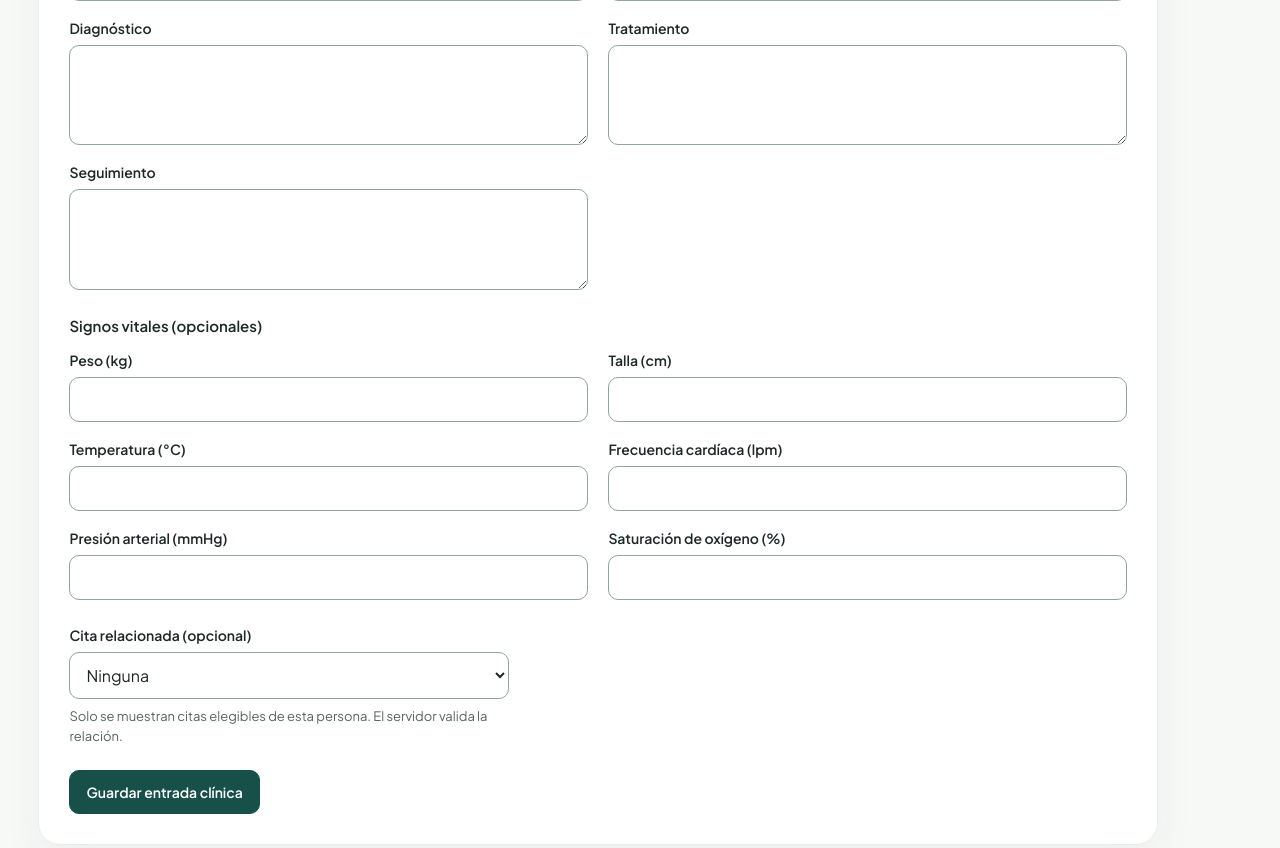
Test case: clinical field bounds match backend and vitals alone do not create an incomplete note
(page scrolled)
Type "70" into the field labelled "Peso (kg)" at (329, 400), box [69,377,588,422]
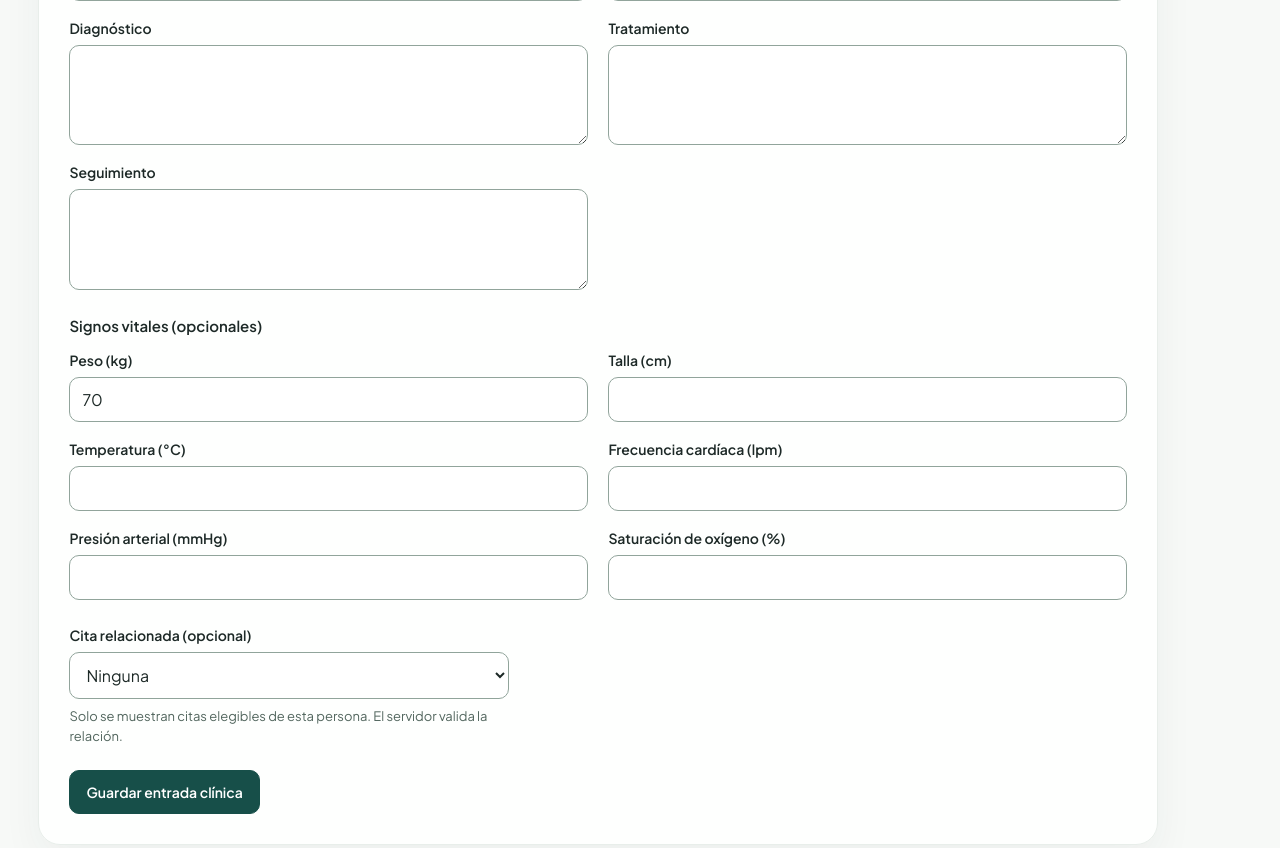
Click the button "Guardar entrada clínica" at (165, 792), box [69,770,260,814]
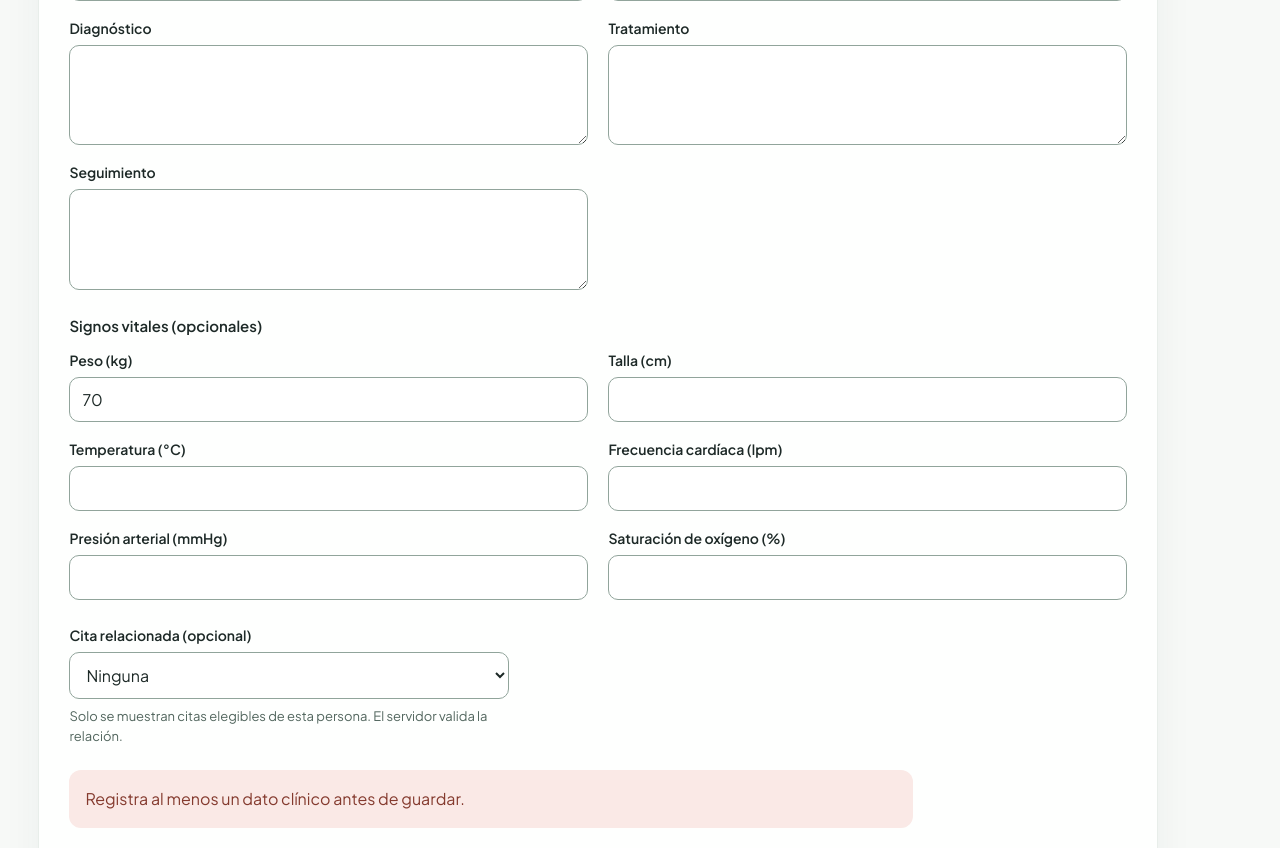
Result: the message shows "Registra al menos un dato clínico" at [85,788,465,809]
